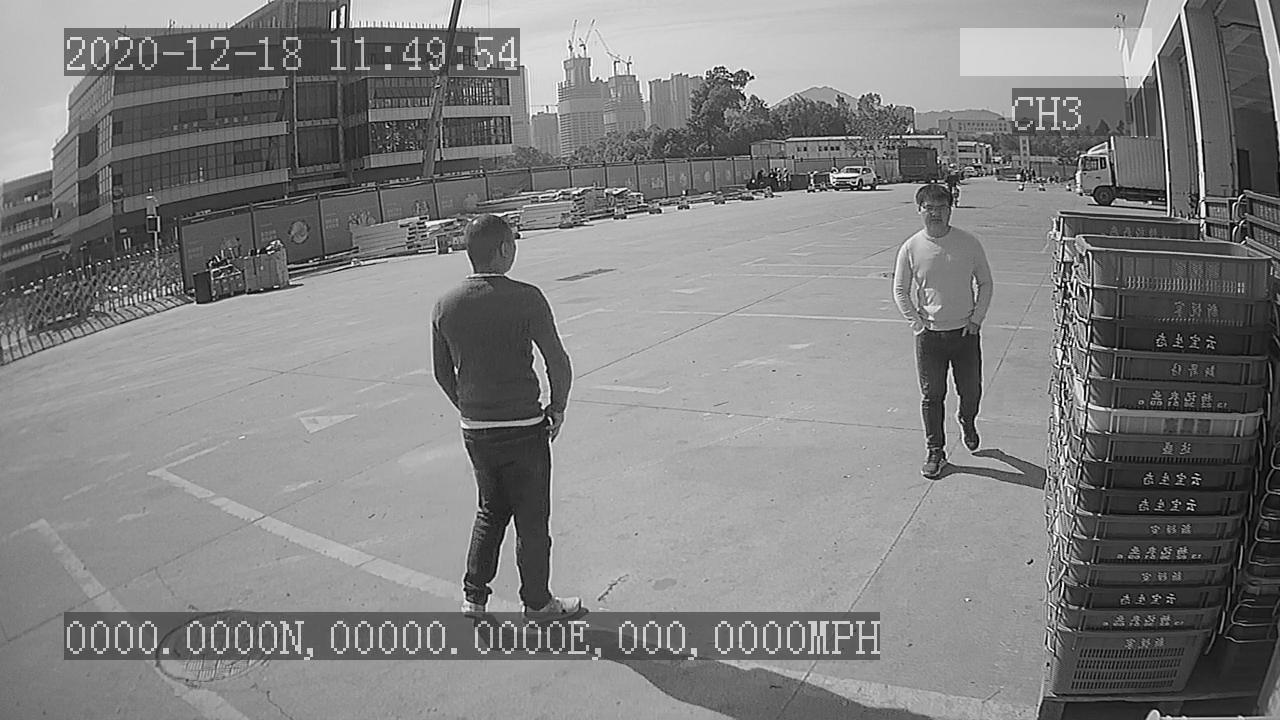person: (886, 177, 1001, 490)
